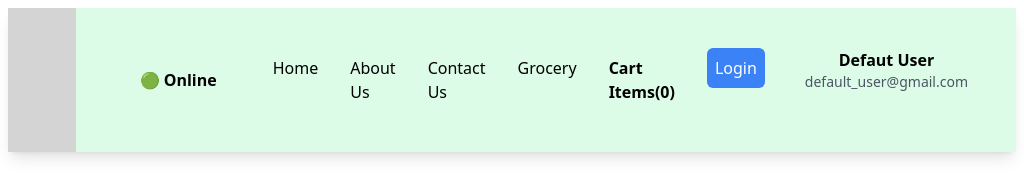
Test case: Header Component Test Cases › should change from Login to Logout Button on Click
Click the button "Login": x=736, y=68 [707, 48, 765, 88]
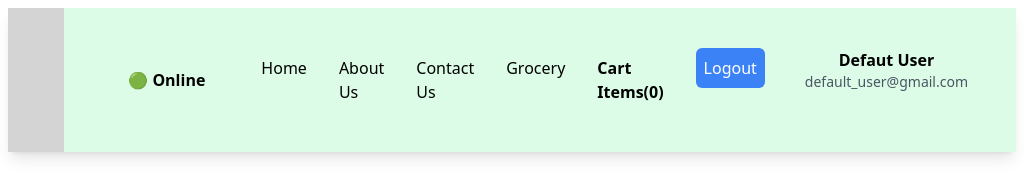
Expected: the button "Logout" is shown, [696, 48, 765, 88]
